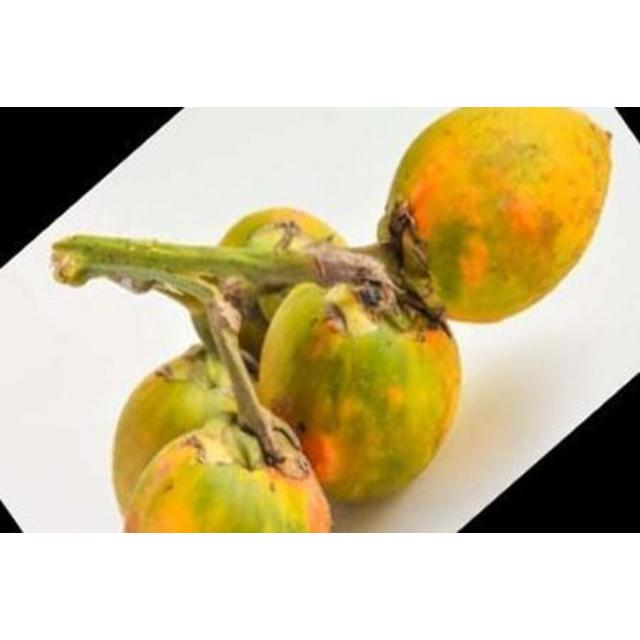good: (182, 215, 462, 508), (378, 107, 614, 326), (112, 329, 333, 532)
